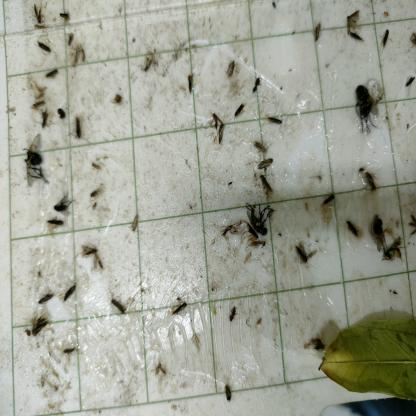prays_oleae: (28, 315, 54, 344), (168, 302, 196, 326), (293, 236, 310, 270), (364, 166, 382, 198), (345, 214, 363, 243), (342, 6, 362, 32), (253, 152, 277, 173), (306, 17, 324, 44), (266, 112, 284, 136), (319, 187, 337, 211), (72, 116, 85, 148), (252, 134, 270, 157), (402, 68, 416, 97), (405, 205, 416, 240), (232, 100, 248, 124), (86, 182, 105, 202), (60, 283, 80, 301), (348, 28, 366, 48), (260, 175, 275, 197), (37, 38, 54, 57), (224, 303, 238, 326), (29, 96, 49, 112), (128, 208, 139, 237), (110, 296, 127, 314), (83, 245, 100, 263), (186, 70, 197, 97), (39, 109, 49, 138), (227, 57, 238, 83), (52, 200, 71, 214), (35, 292, 57, 304), (380, 26, 392, 48), (32, 5, 45, 25), (95, 256, 107, 276), (45, 66, 60, 80), (46, 217, 64, 228)
